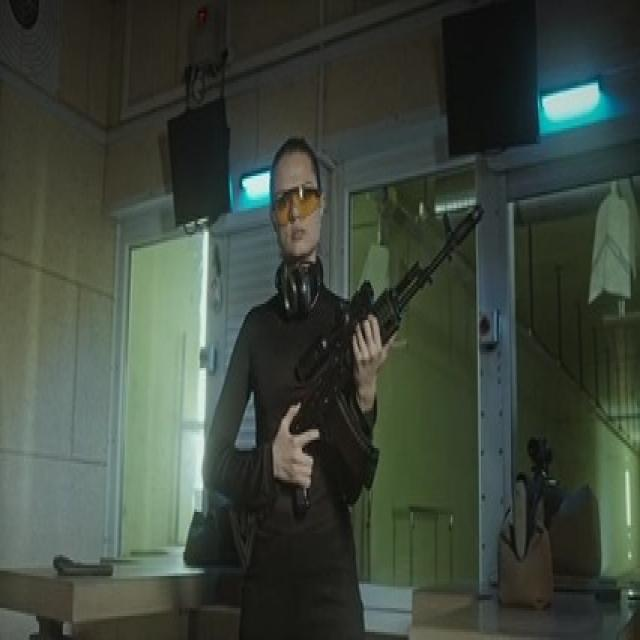Gun_Holder: (238, 200, 502, 518)
Person: (205, 131, 390, 639)
